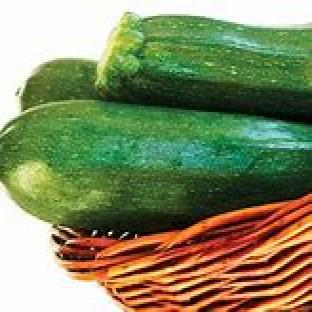Zucchini: (0, 100, 311, 231), (96, 14, 311, 119), (18, 58, 98, 109)
